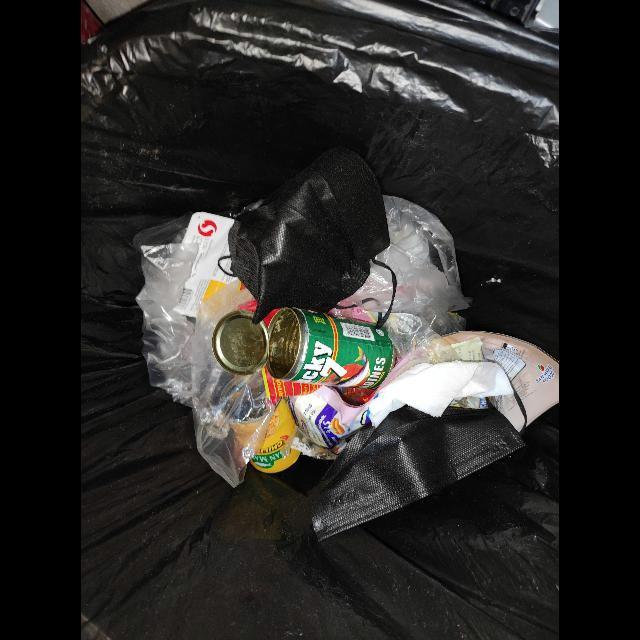aluminum: (212, 307, 398, 390), (251, 397, 301, 474)
food_wrapper: (444, 331, 560, 433), (262, 366, 370, 449), (174, 212, 238, 318)
paper: (368, 361, 515, 428)
plastic_bag: (135, 243, 275, 489), (329, 195, 474, 338)
